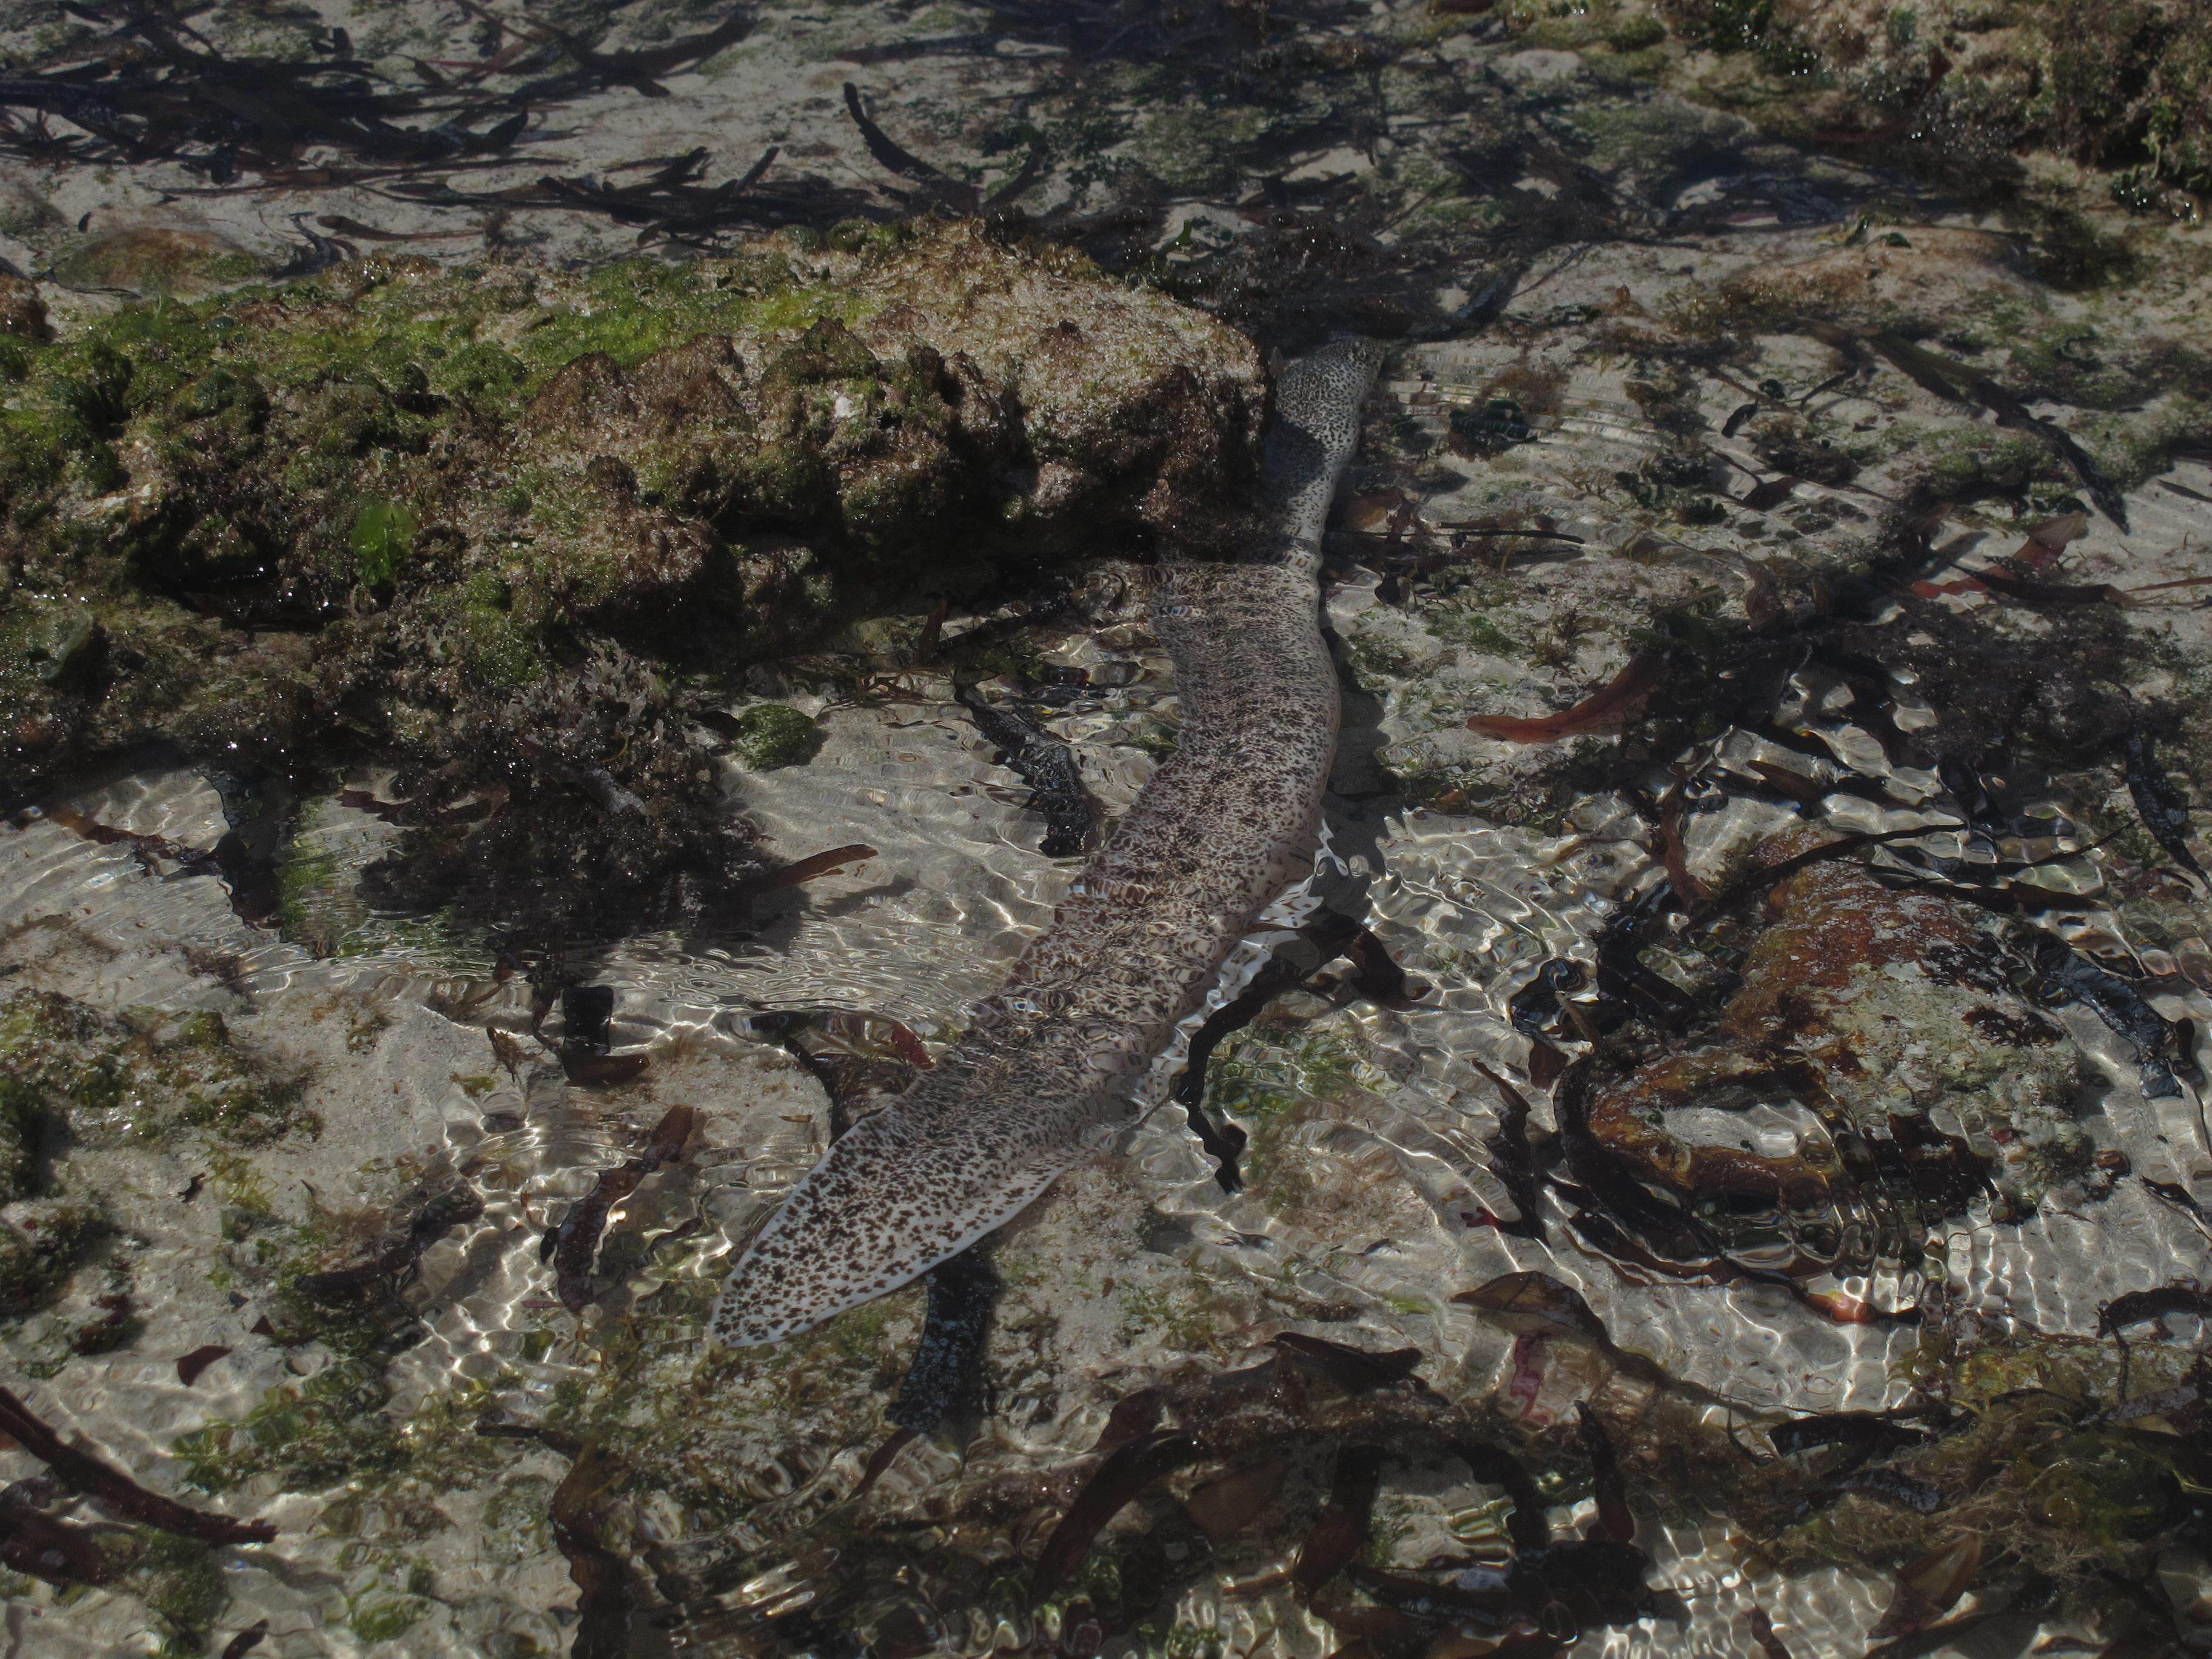Fish: (665, 228, 1526, 1380)
